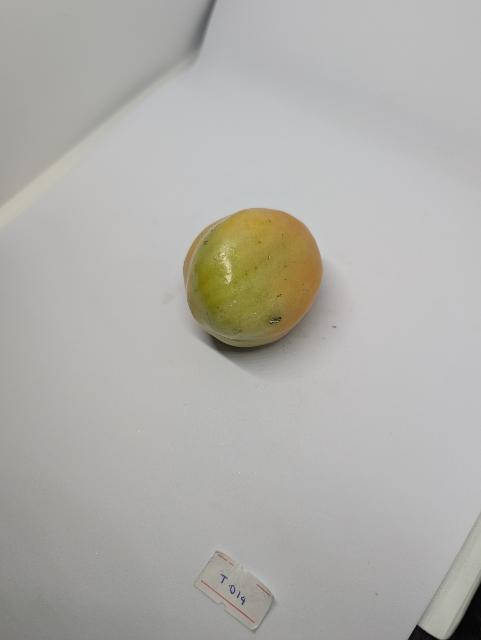breaker: (184, 208, 323, 347)
